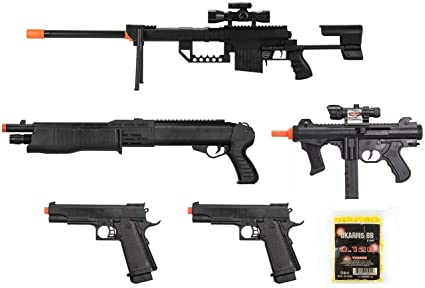Arma Falsa: (26, 1, 389, 72), (1, 117, 260, 184), (269, 104, 425, 190), (46, 201, 162, 286), (188, 201, 307, 282)
